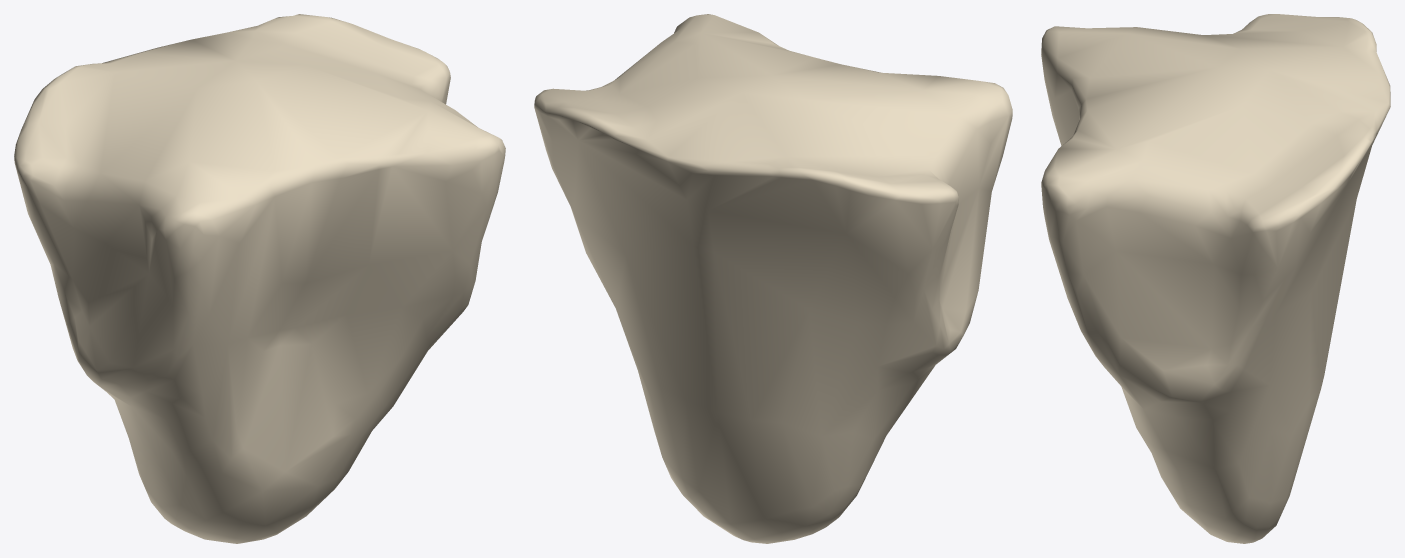
The model's file is xiphoid-process.glb.
The picture shows the model from 3 angles, left to right: view 1: azimuth 30°, elevation 25°; view 2: azimuth 150°, elevation 25°; view 3: azimuth 270°, elevation 25°; orthographic projection. The views are drawn at different scales.
Parts seen in each view (by area): view 1: Xiphoid process; view 2: Xiphoid process; view 3: Xiphoid process.
Boxes of the visible parts, x1,y1,x2,y2 form: Xiphoid process: [14, 14, 505, 543]; Xiphoid process: [534, 14, 1012, 543]; Xiphoid process: [1041, 14, 1390, 543].
Size of the model in its own units: 0.0217 by 0.0227 by 0.0154.
